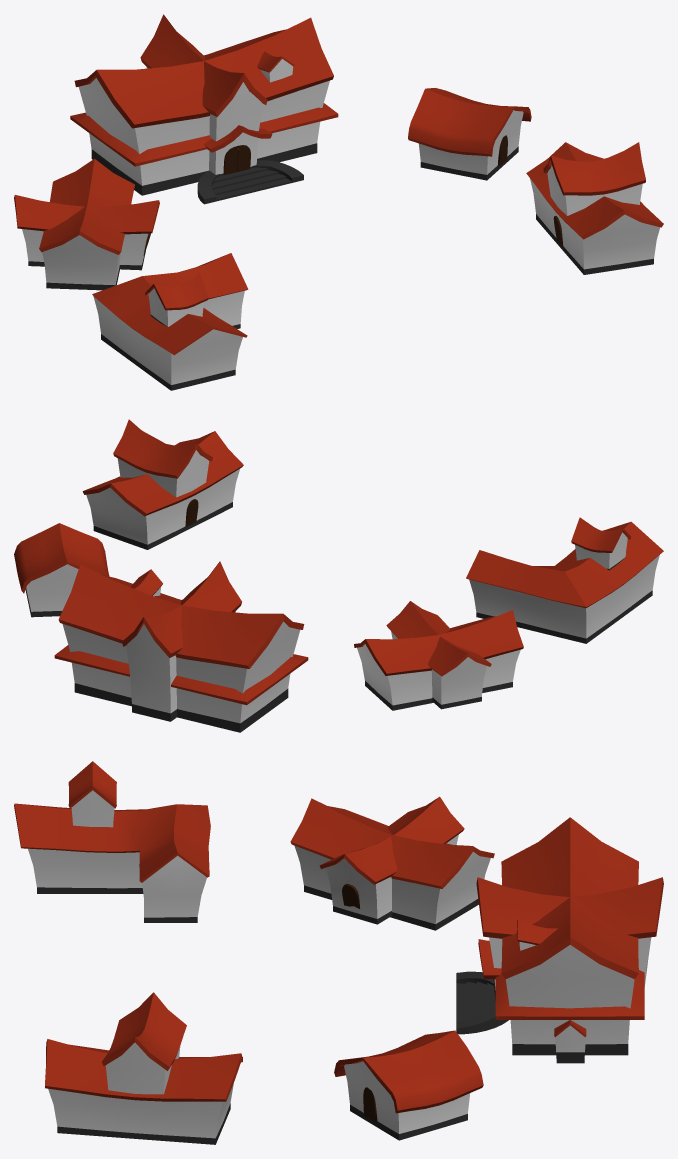
The model's file is Hus1 - Main.FBX.
The picture shows the model from 3 angles, top to bottom: view 1: azimuth 30°, elevation 25°; view 2: azimuth 150°, elevation 25°; view 3: azimuth 270°, elevation 25°; orthographic projection. The views are drawn at different scales.
Visible parts, largest first — view 1: House3, House5, House4, House1, House2, Box002, Box013, Box008, Cylinder005, Box014, Box005, Cylinder001; view 2: House3, House5, House1, House4, House2, Box002, Box013, Box008, Box014; view 3: House3, House5, House1, House4, House2, Box013, Box008, Box014, Cylinder005, Box003, Box002.
Part boxes in pixels (left/top/right/bottom): House3: left=70, top=14, right=338, bottom=195; House5: left=92, top=253, right=248, bottom=390; House4: left=14, top=158, right=159, bottom=290; House1: left=526, top=142, right=663, bottom=274; House2: left=408, top=88, right=531, bottom=180; Box002: left=146, top=66, right=262, bottom=175; Box013: left=22, top=229, right=148, bottom=270; Box008: left=547, top=165, right=642, bottom=215; Cylinder005: left=197, top=160, right=303, bottom=203; Box014: left=148, top=288, right=204, bottom=326; Box005: left=223, top=145, right=250, bottom=175; Cylinder001: left=197, top=178, right=303, bottom=204; House3: left=54, top=561, right=308, bottom=732; House5: left=466, top=517, right=663, bottom=643; House1: left=82, top=419, right=243, bottom=549; House4: left=354, top=601, right=523, bottom=710; House2: left=14, top=523, right=109, bottom=617; Box002: left=126, top=611, right=235, bottom=721; Box013: left=391, top=631, right=486, bottom=709; Box008: left=117, top=450, right=209, bottom=497; Box014: left=575, top=532, right=627, bottom=570; House3: left=476, top=817, right=663, bottom=1055; House5: left=14, top=761, right=210, bottom=922; House1: left=45, top=992, right=242, bottom=1144; House4: left=290, top=796, right=494, bottom=930; House2: left=334, top=1030, right=483, bottom=1140; Box013: left=326, top=834, right=458, bottom=924; Box008: left=105, top=1042, right=180, bottom=1094; Box014: left=71, top=790, right=114, bottom=827; Cylinder005: left=456, top=971, right=507, bottom=1034; Box003: left=555, top=1025, right=586, bottom=1063; Box002: left=489, top=937, right=651, bottom=989.
Size of the model in its own units: 6002 by 1227 by 5604.
